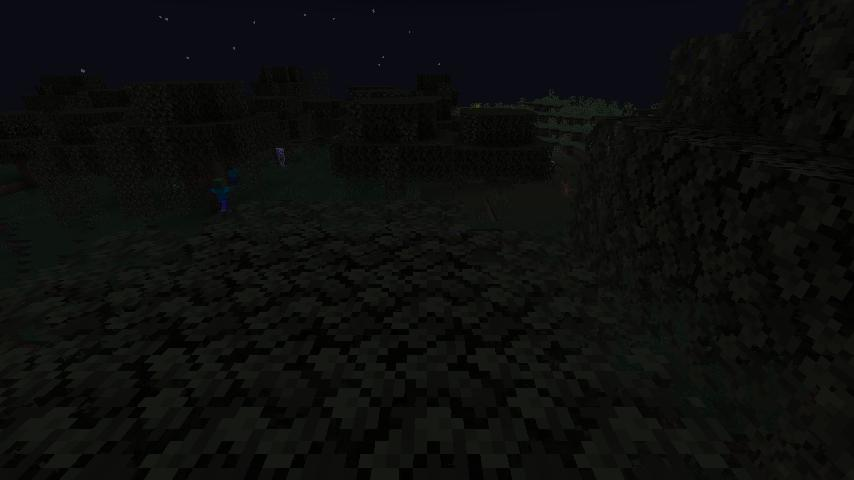skeleton: (275, 147, 287, 168)
zombie: (210, 177, 232, 214), (227, 163, 239, 187)
